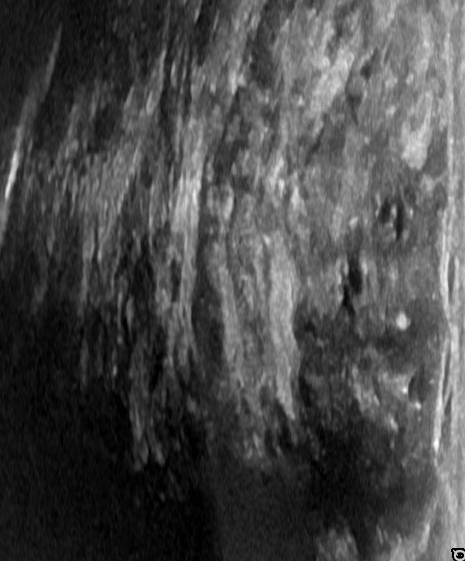Normal: (19, 1, 446, 557)
